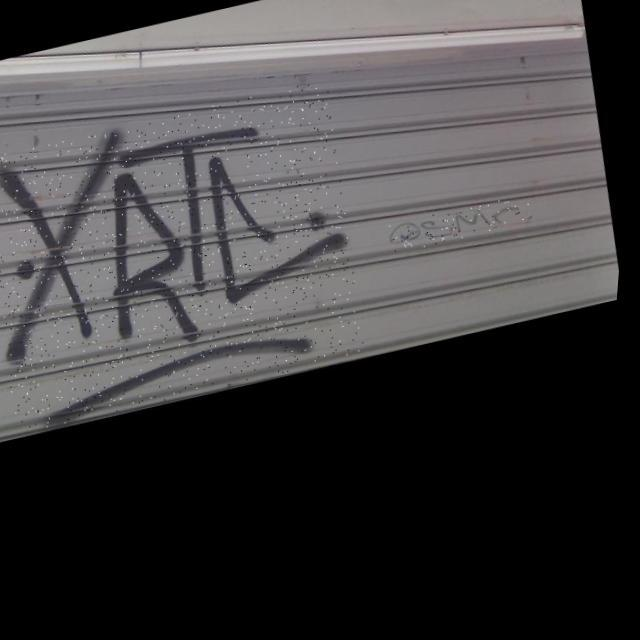-: (0, 79, 386, 435), (391, 193, 539, 256)
